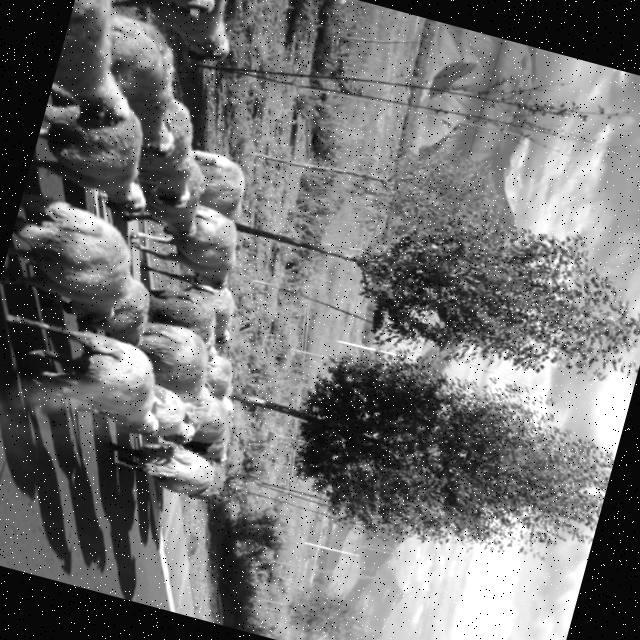sheep: (13, 196, 130, 330)
